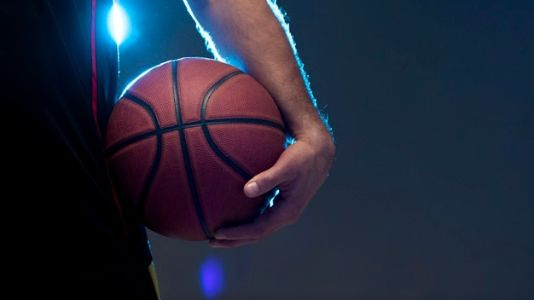baloncesto: (104, 57, 285, 241)
